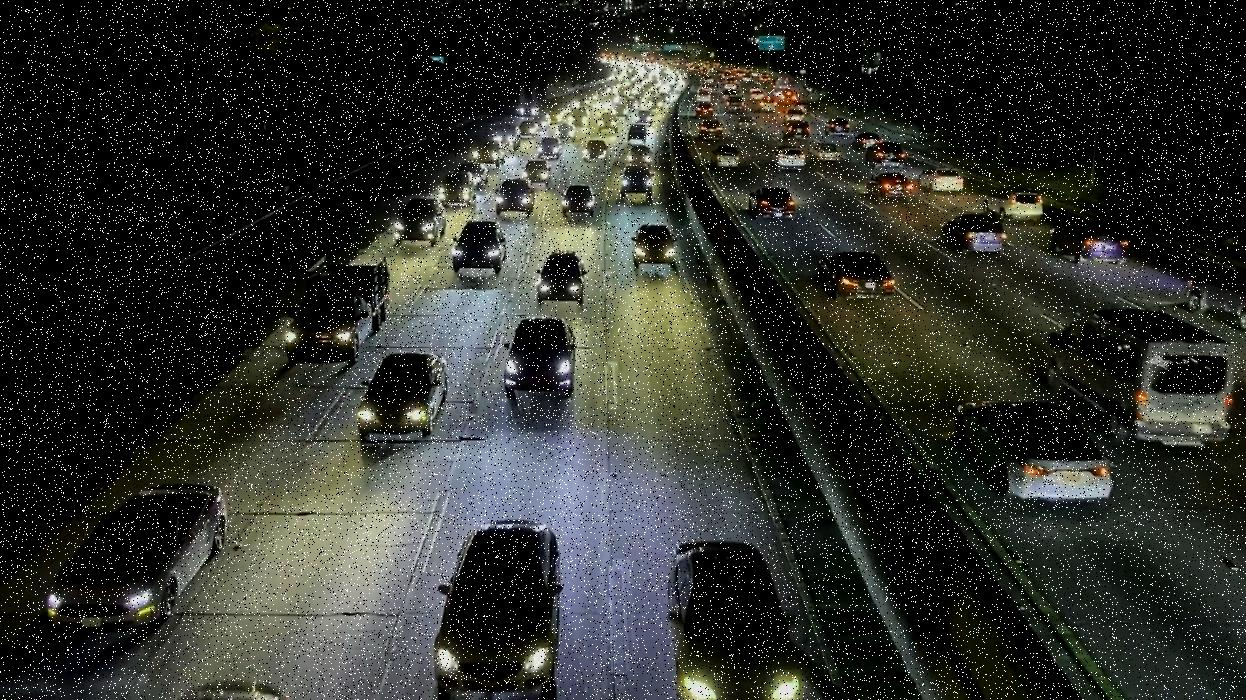car: (30, 482, 233, 639), (1041, 306, 1237, 453), (423, 509, 562, 691), (667, 533, 814, 700), (956, 392, 1119, 506), (356, 345, 449, 438), (499, 313, 581, 403), (813, 245, 902, 309), (1184, 259, 1246, 333), (1050, 218, 1129, 269), (159, 672, 291, 700), (449, 219, 509, 273), (536, 251, 590, 309), (941, 212, 1009, 257), (389, 198, 448, 247), (632, 224, 678, 270), (982, 189, 1043, 220), (744, 186, 799, 218), (493, 176, 537, 216), (432, 171, 480, 207), (919, 163, 967, 194), (561, 181, 599, 218), (618, 161, 655, 199), (867, 172, 913, 202), (866, 143, 908, 167), (771, 145, 809, 171), (522, 159, 554, 186), (708, 145, 742, 168), (781, 118, 814, 138), (699, 116, 726, 140), (810, 143, 843, 161), (537, 136, 564, 158), (584, 140, 610, 162), (626, 122, 650, 145), (825, 115, 850, 137), (626, 145, 653, 164), (854, 132, 884, 148), (735, 115, 759, 132)
truck: (286, 251, 394, 357)
